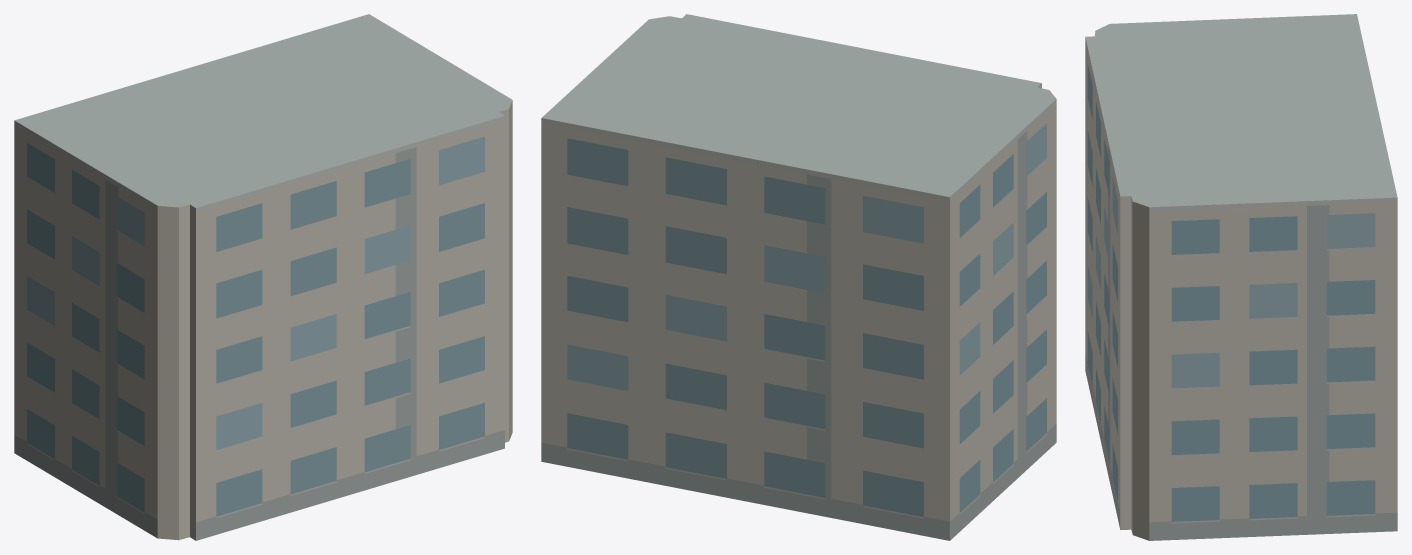
File: survey-upis-32917298.glb
3 renders of one model, left to right at view 1: azimuth 30°, elevation 25°; view 2: azimuth 150°, elevation 25°; view 3: azimuth 270°, elevation 25°, orthographic. The views are drawn at different scales.
Visible parts, largest first — view 1: survey-upis-32917298.tmp; view 2: survey-upis-32917298.tmp; view 3: survey-upis-32917298.tmp.
Part boxes in pixels (x1,y1,x2,y2): survey-upis-32917298.tmp: [14, 14, 512, 540]; survey-upis-32917298.tmp: [541, 14, 1056, 540]; survey-upis-32917298.tmp: [1085, 14, 1397, 540].
Size of the model in its own units: 21.12 by 17 by 14.43.
